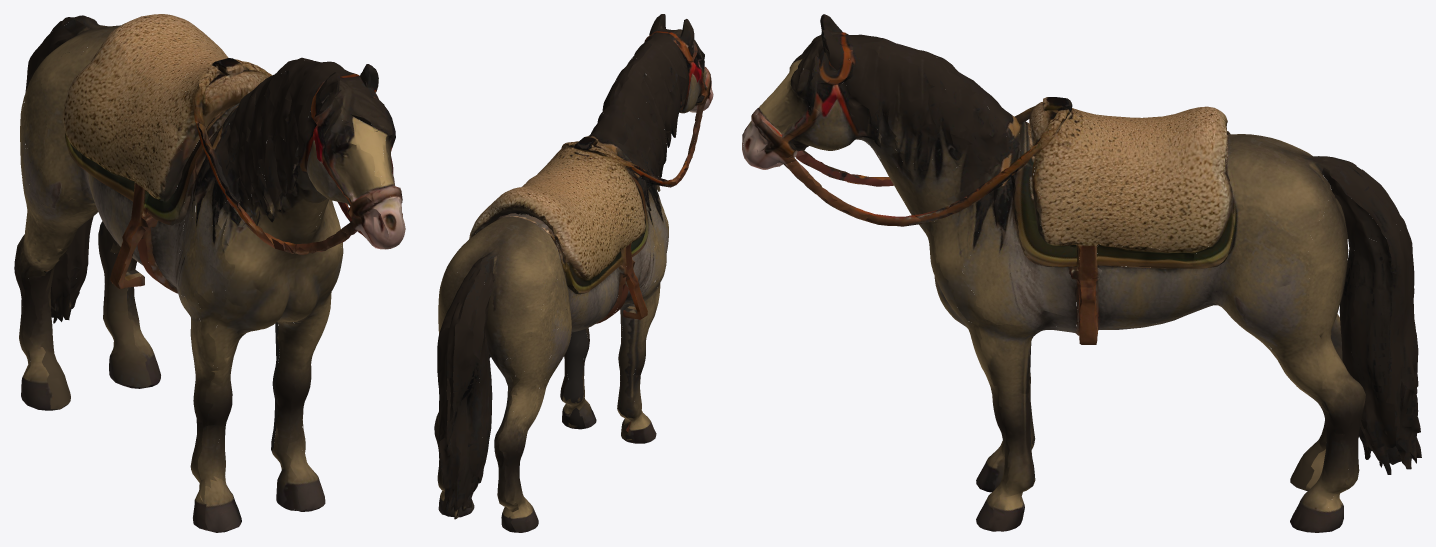
The model's file is caballo_bayo.glb.
The picture shows the model from 3 angles, left to right: view 1: azimuth 30°, elevation 25°; view 2: azimuth 150°, elevation 25°; view 3: azimuth 270°, elevation 25°; orthographic projection. The views are drawn at different scales.
Visible parts, largest first — view 1: caballo_bayo; view 2: caballo_bayo; view 3: caballo_bayo.
Part boxes in pixels (<box>): caballo_bayo: <box>14,14,405,532</box>; caballo_bayo: <box>434,14,713,532</box>; caballo_bayo: <box>742,14,1421,532</box>.
Size of the model in its own units: 0.7619 by 1.9 by 2.42.
1 material, 1 textured.
